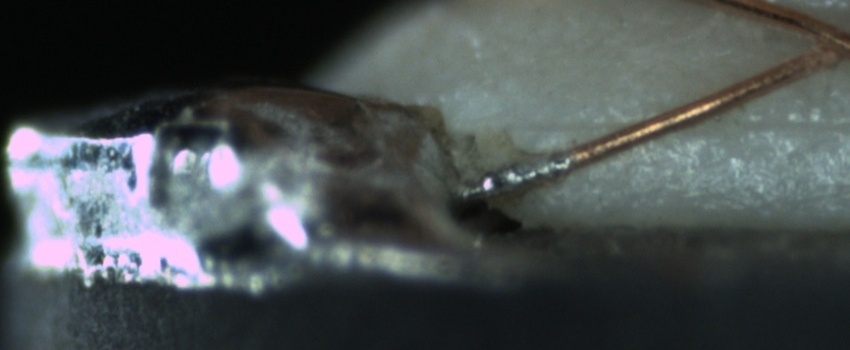CL: (795, 15, 850, 74)
DL: (534, 93, 850, 153)
TS: (453, 150, 574, 203)
TTCW: (451, 135, 607, 204)
